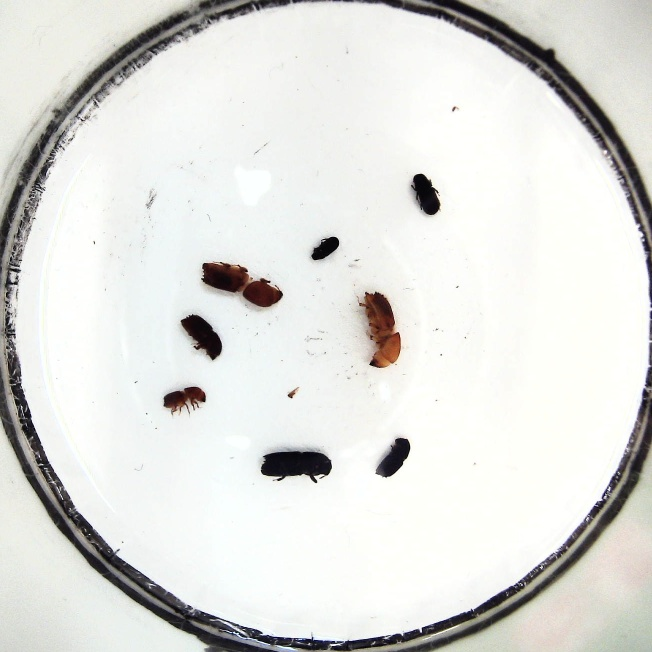acuminatus: (163, 385, 207, 416)
armandi: (411, 172, 442, 218)
boerner: (200, 259, 284, 309), (359, 288, 402, 370), (255, 450, 333, 482)
coleoptera: (307, 235, 342, 262)
linnaeus: (178, 313, 222, 365), (372, 435, 411, 480)
